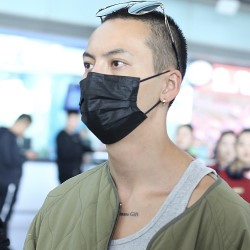mask: (75, 64, 151, 144)
